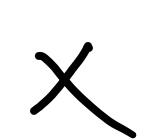mult: (30, 42, 137, 139)
